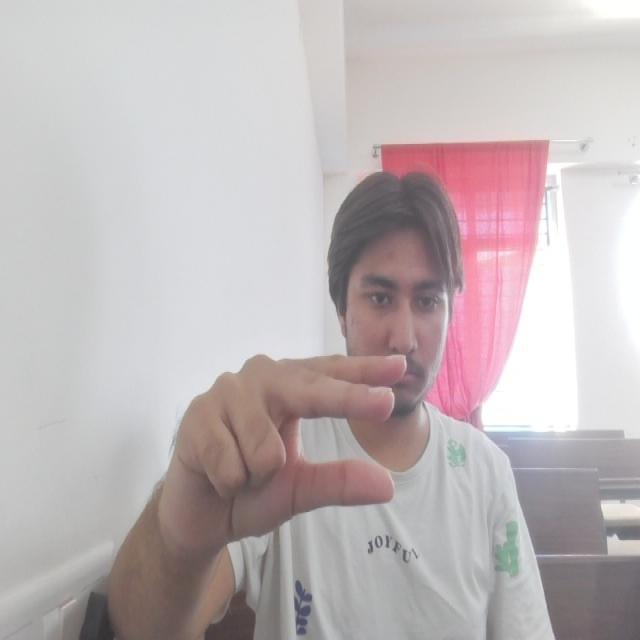no: (170, 349, 412, 550)
